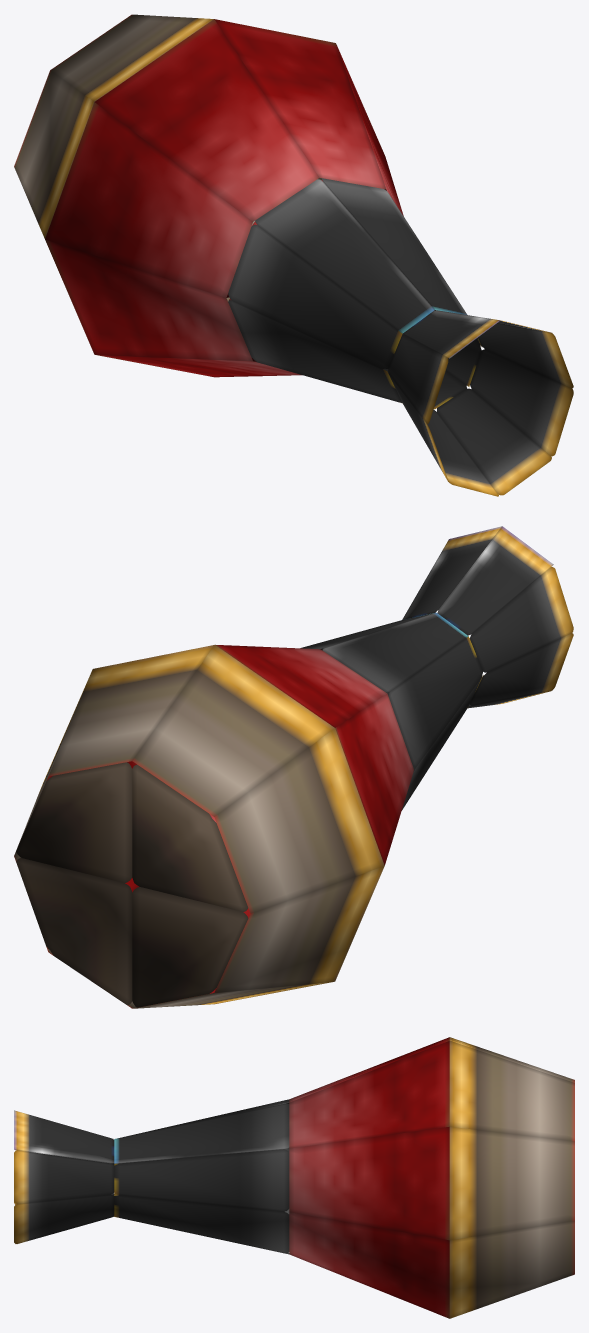
3 renders of one model, top to bottom at view 1: azimuth 30°, elevation 25°; view 2: azimuth 150°, elevation 25°; view 3: azimuth 270°, elevation 25°, orthographic. The views are drawn at different scales.
Visible parts, largest first — view 1: T1L8M005_37; view 2: T1L8M005_37; view 3: T1L8M005_37.
Boxes of the visible parts, left/top/right/bottom form: T1L8M005_37: left=14, top=14, right=573, bottom=496; T1L8M005_37: left=14, top=526, right=573, bottom=1008; T1L8M005_37: left=14, top=1037, right=574, bottom=1318.
Size of the model in its own units: 0.1748 by 0.1758 by 0.3281.
